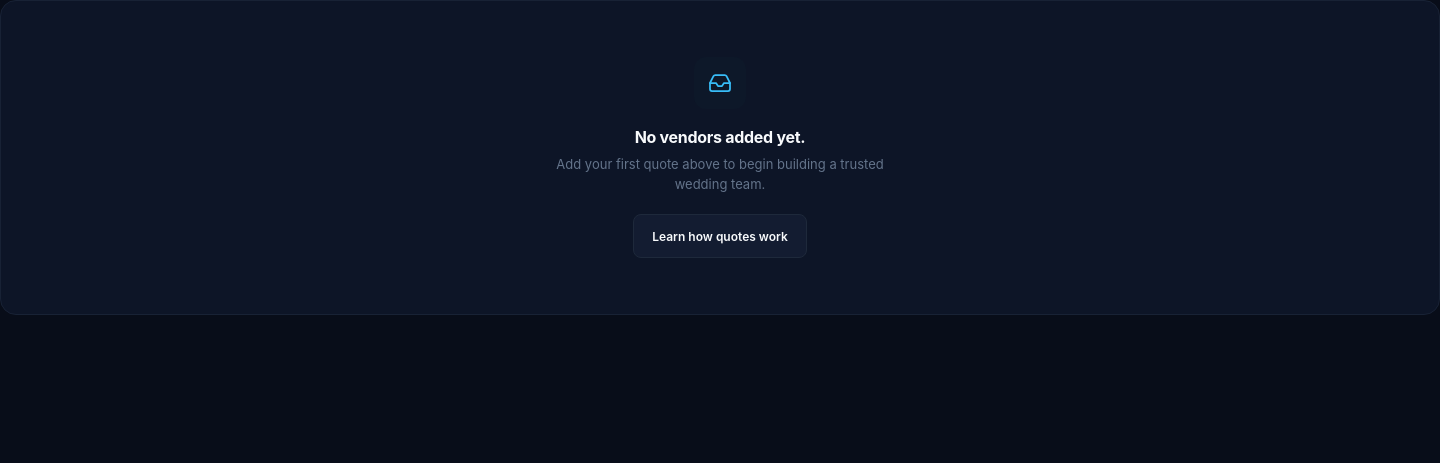
UI Primitives and TimelineTab Component Coverage › VendorComparisonTable and VendorEmptyState › toggles guide modal in VendorEmptyState
Click the button "Learn how quotes work" at (720, 236), box [633,214,807,258]
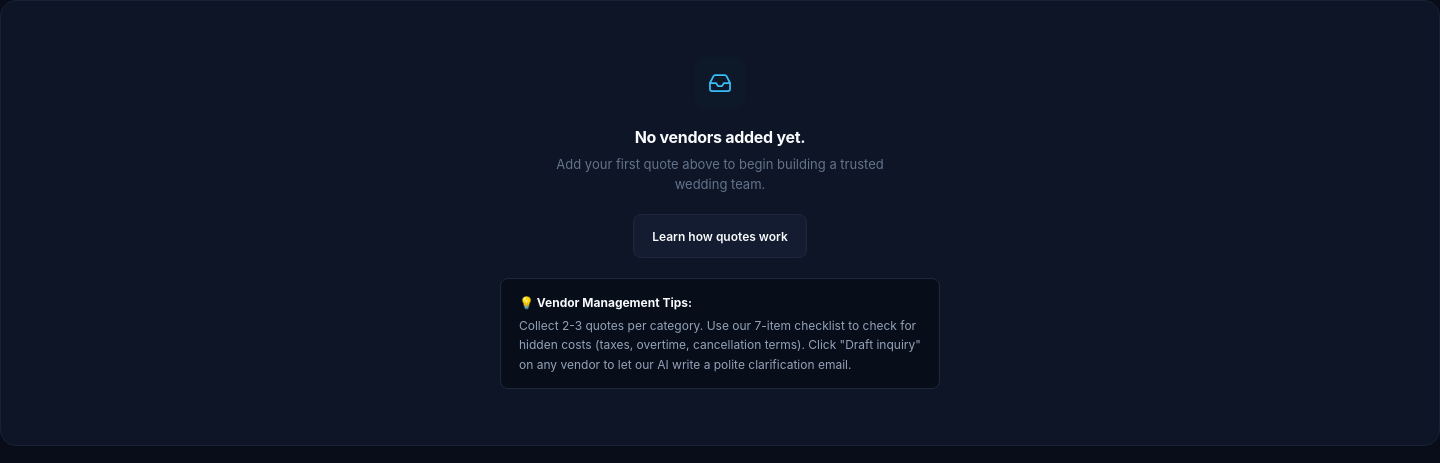
Expected: the text "💡 Vendor Management Tips:" is shown, [519,295,692,310]
